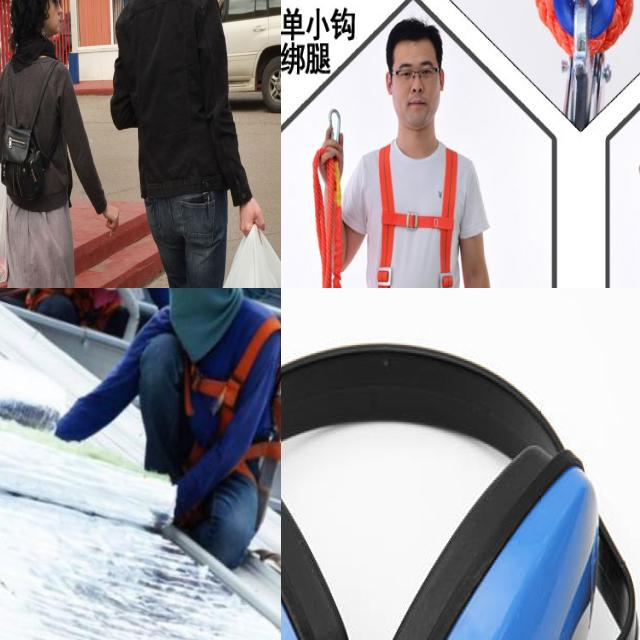Ear-protection: (281, 330, 640, 640)
Harness: (187, 312, 281, 482), (355, 138, 461, 288)
